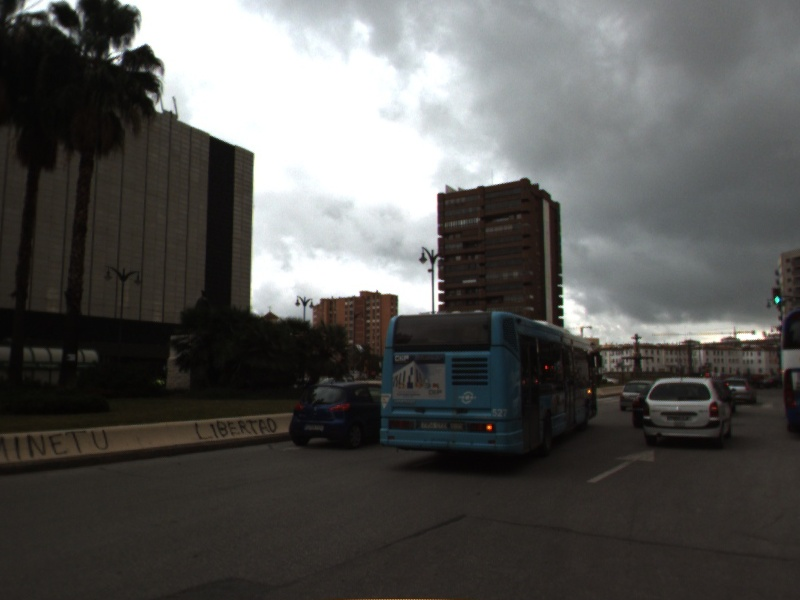STRAIGHT: (584, 448, 656, 485)
